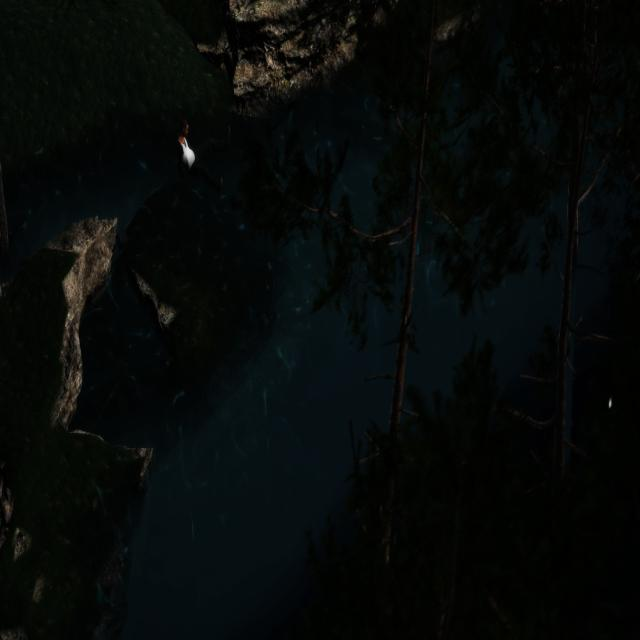Human: (167, 120, 235, 206)
